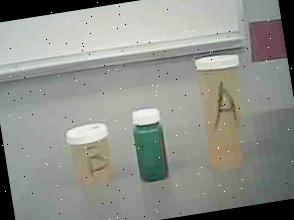Bottle A: (188, 46, 260, 178)
Bottle B: (63, 116, 123, 190)
Bottle C: (125, 100, 180, 187)
